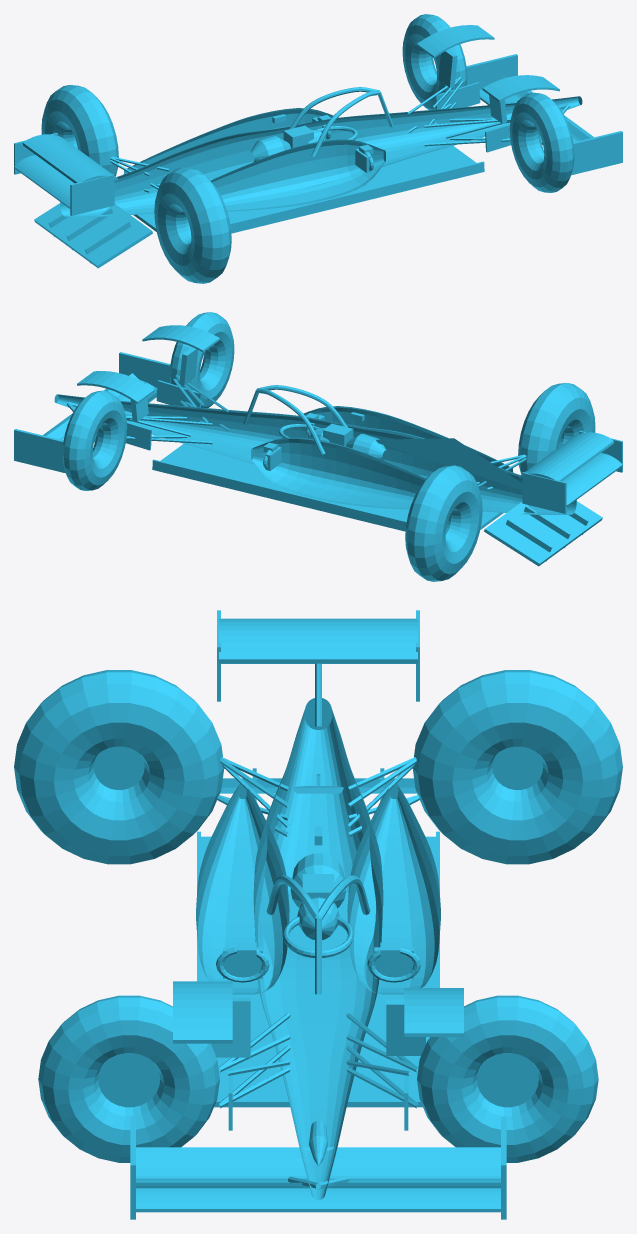
File: focus-chassis.glb
3 renders of one model, top to bottom at view 1: azimuth 30°, elevation 25°; view 2: azimuth 150°, elevation 25°; view 3: azimuth 270°, elevation 25°, orthographic. The views are drawn at different scales.
Parts seen in each view (by area): view 1: hull, wing, tyre, dark; view 2: wing, hull, tyre, dark; view 3: tyre, hull, wing, dark.
Boxes of the visible parts, x1=… form: hull: x1=60, y1=96, x2=582, y2=233; wing: x1=14, y1=25, x2=622, y2=268; tyre: x1=41, y1=14, x2=574, y2=283; dark: x1=272, y1=114, x2=373, y2=172; wing: x1=14, y1=325, x2=622, y2=566; hull: x1=54, y1=394, x2=576, y2=531; tyre: x1=62, y1=312, x2=595, y2=581; dark: x1=263, y1=412, x2=364, y2=470; tyre: x1=14, y1=670, x2=622, y2=1162; hull: x1=196, y1=698, x2=440, y2=1199; wing: x1=130, y1=610, x2=506, y2=1219; dark: x1=93, y1=746, x2=543, y2=1107.
Size of the model in its own units: 5.51 by 1.05 by 3.06.
